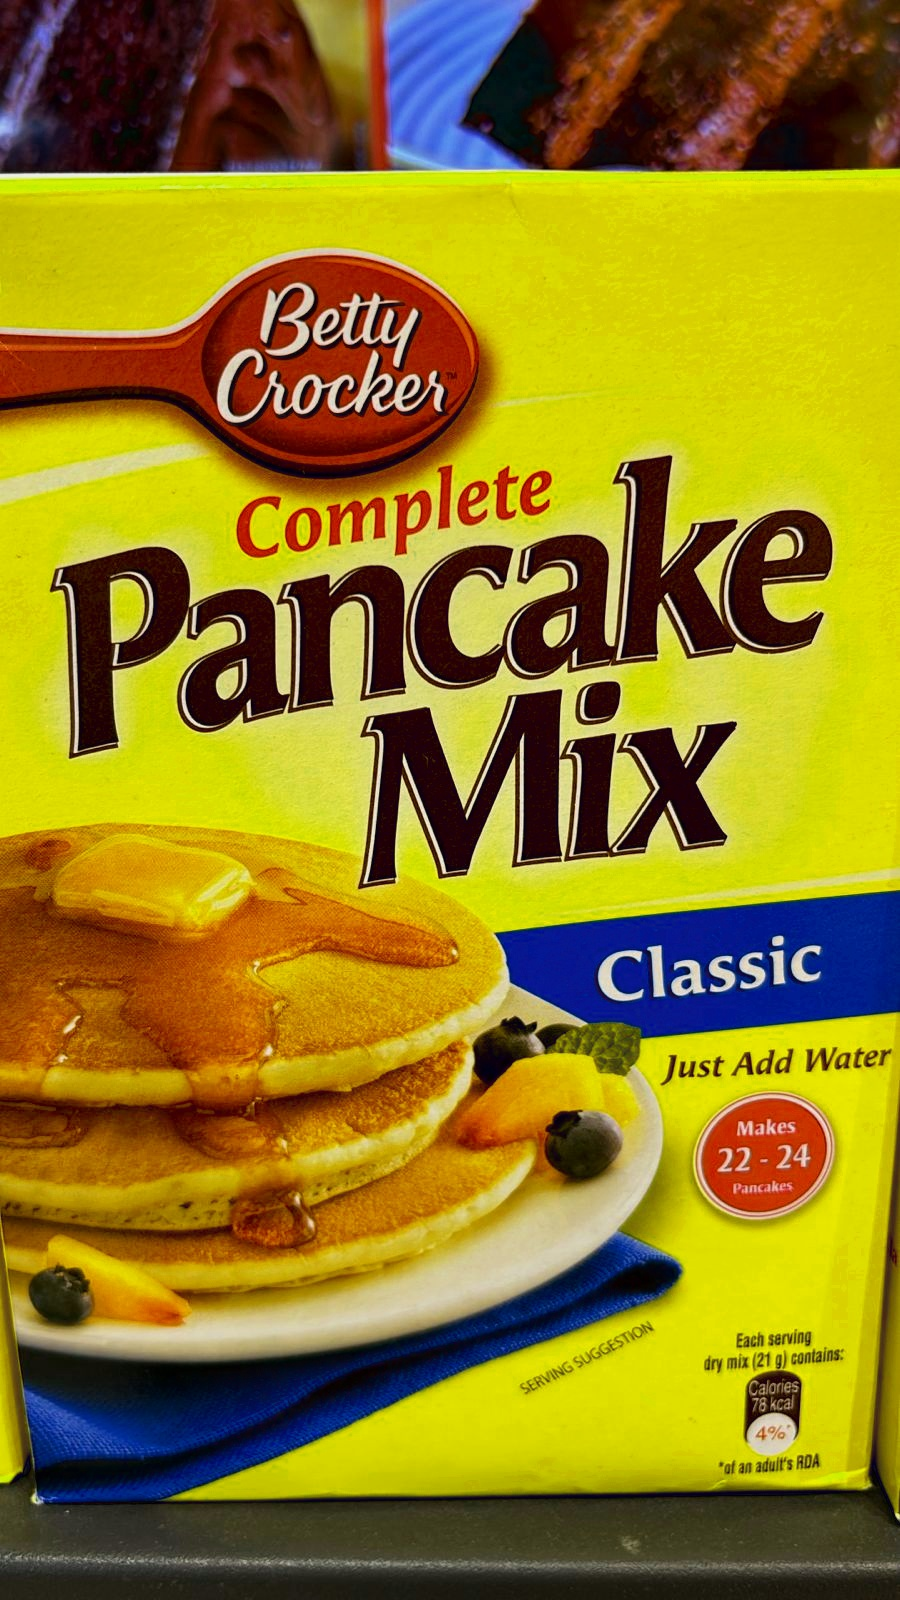Betty Crocker Pancake Mix: (4, 176, 878, 1513)
